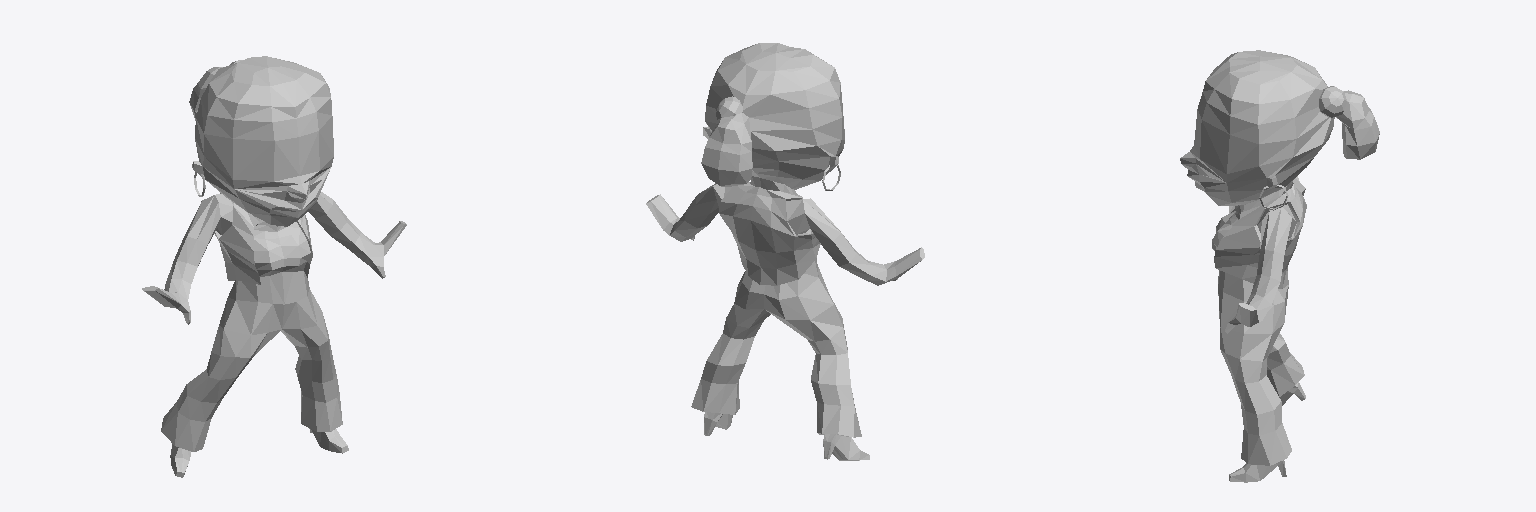
File: bailarina_000060.obj
The picture shows the model from 3 angles: view 1: azimuth 30°, elevation 25°; view 2: azimuth 150°, elevation 25°; view 3: azimuth 270°, elevation 25°; orthographic projection.
Parts seen in each view (by area): view 1: bAilarina:Mesh; view 2: bAilarina:Mesh; view 3: bAilarina:Mesh.
Boxes of the visible parts, <box> form: bAilarina:Mesh: <box>142,56,406,477</box>; bAilarina:Mesh: <box>646,43,924,460</box>; bAilarina:Mesh: <box>1180,50,1379,482</box>.
Size of the model in its own units: 12.18 by 16.88 by 7.84.